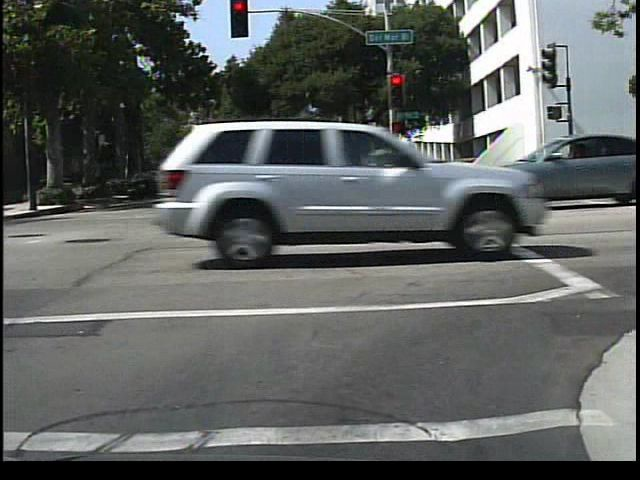person: (591, 131, 617, 194)
